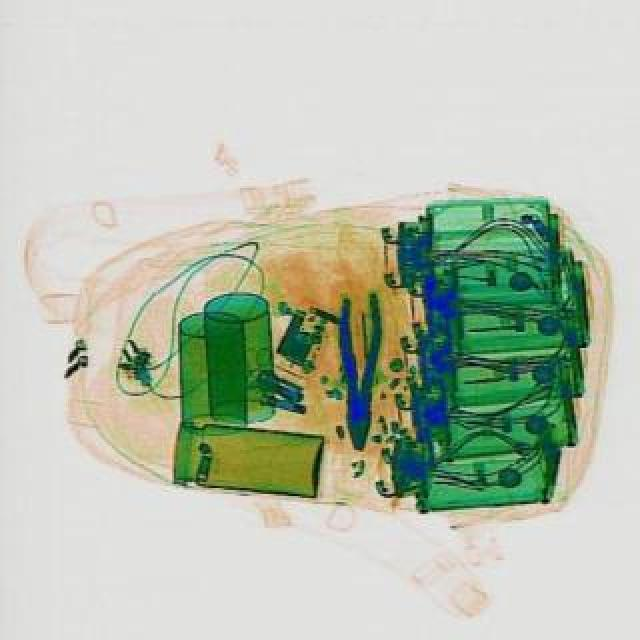wrench: (336, 292, 382, 452)
